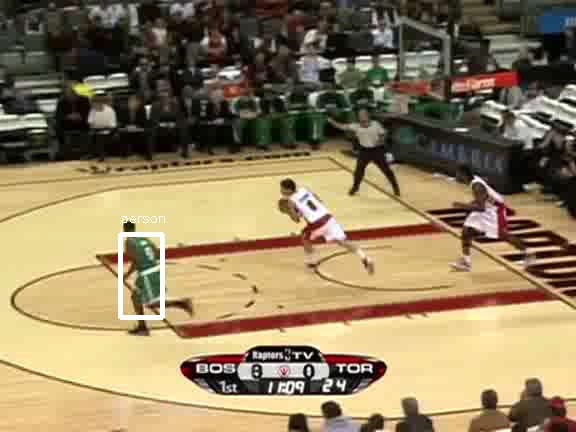person: (127, 227, 161, 308), (126, 227, 160, 308), (128, 227, 162, 308), (127, 226, 161, 307), (127, 228, 161, 309)
target_negative: (147, 354, 469, 407), (50, 38, 349, 77), (362, 265, 535, 326), (318, 373, 488, 390), (324, 214, 463, 222), (346, 315, 376, 331)
